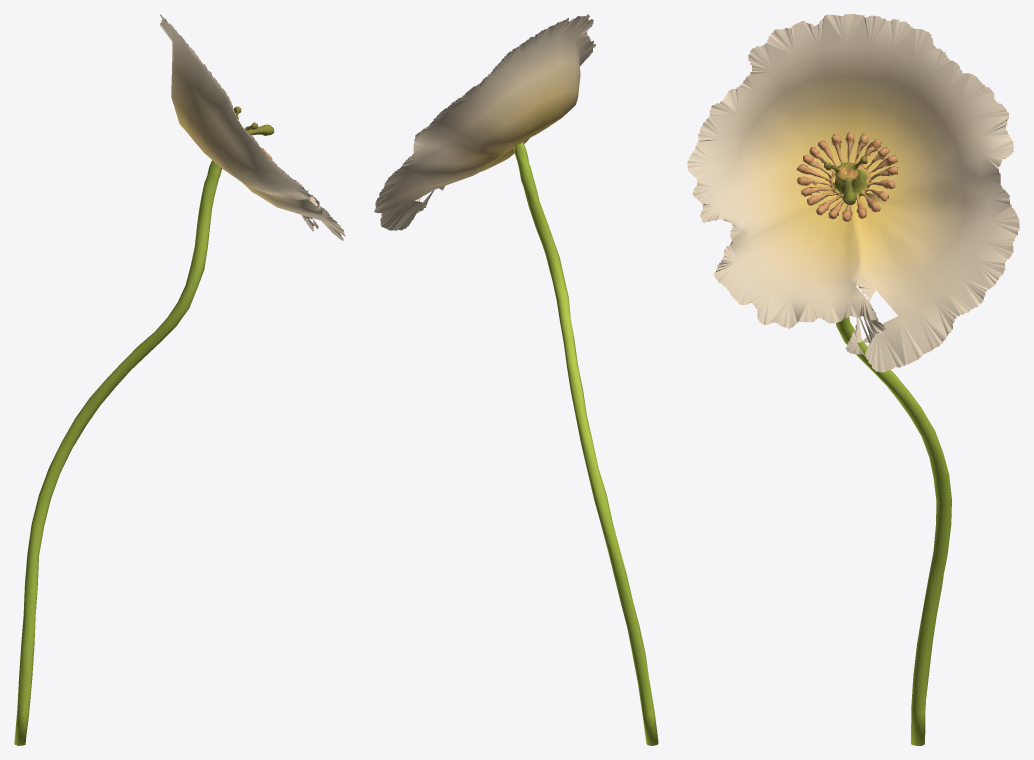
File: flower-01.glb
The picture shows the model from 3 angles, left to right: view 1: azimuth 30°, elevation 25°; view 2: azimuth 150°, elevation 25°; view 3: azimuth 270°, elevation 25°; orthographic projection. The views are drawn at different scales.
Parts seen in each view (by area): view 1: tripo_node_538a1fed-c00b-47be-98b8-8a74b9595738; view 2: tripo_node_538a1fed-c00b-47be-98b8-8a74b9595738; view 3: tripo_node_538a1fed-c00b-47be-98b8-8a74b9595738.
Part boxes in pixels (<box>): tripo_node_538a1fed-c00b-47be-98b8-8a74b9595738: <box>14,14,345,745</box>; tripo_node_538a1fed-c00b-47be-98b8-8a74b9595738: <box>374,14,658,745</box>; tripo_node_538a1fed-c00b-47be-98b8-8a74b9595738: <box>687,14,1019,745</box>.
Size of the model in its own units: 0.4218 by 0.998 by 0.375.
Materials: 1 (1 with a texture image).
